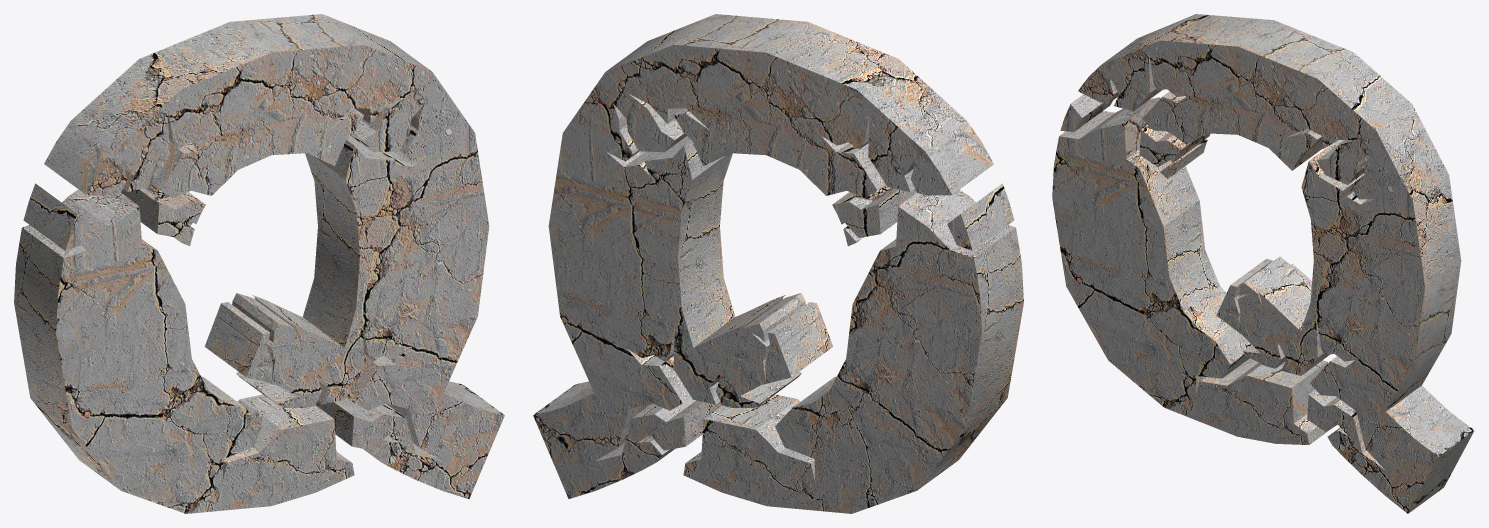
3 views of the same model, side by side, from view 1: azimuth 30°, elevation 25°; view 2: azimuth 150°, elevation 25°; view 3: azimuth 330°, elevation 25° (orthographic). The views are drawn at different scales.
Parts seen in each view (by area): view 1: Q; view 2: Q; view 3: Q.
Part boxes in pixels (x1,y1,x2,y2): Q: (14, 14, 504, 513); Q: (533, 14, 1023, 513); Q: (1052, 14, 1474, 513).
Bounding box in the file's own units: 92.65 × 97.58 × 15.
1 material, 1 textured.
